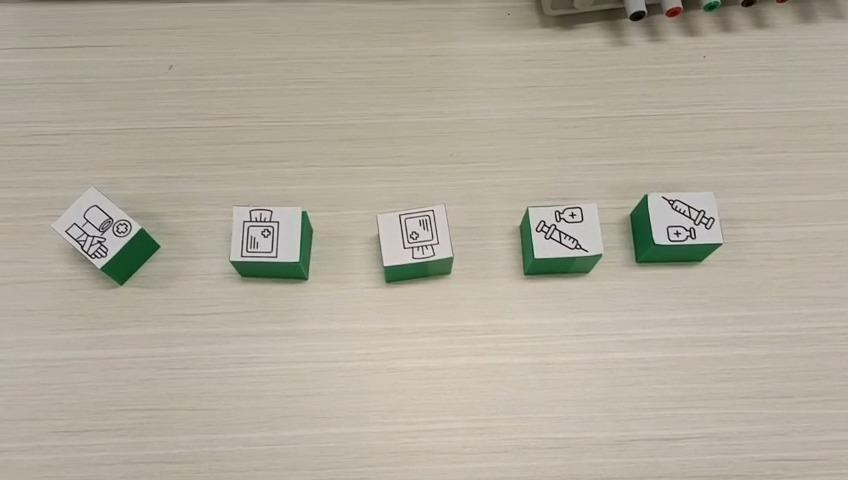Bandages: (48, 186, 161, 286)
Gauze: (375, 202, 455, 283), (231, 206, 315, 282)
antiseptic cream: (628, 190, 725, 263), (519, 202, 605, 276)
